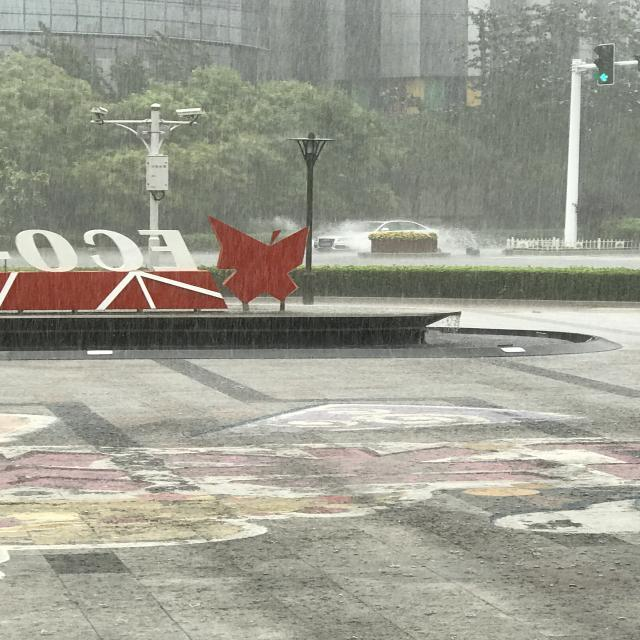car: (220, 200, 252, 324)
